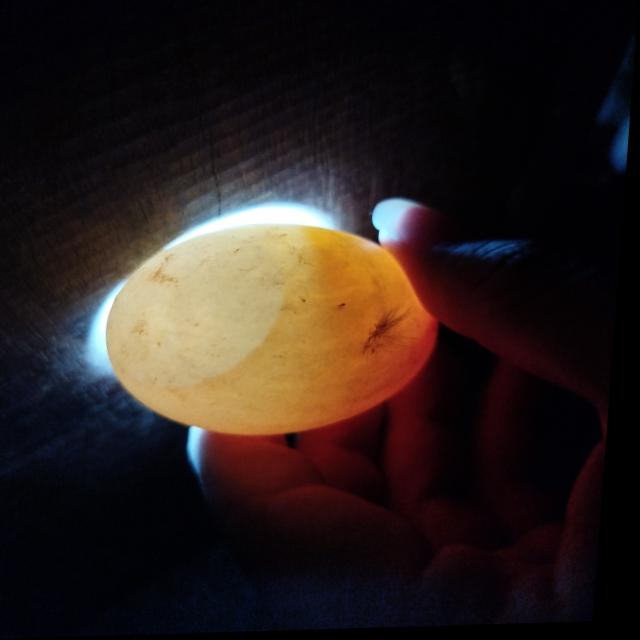Camara de Ar: (120, 233, 289, 385)
